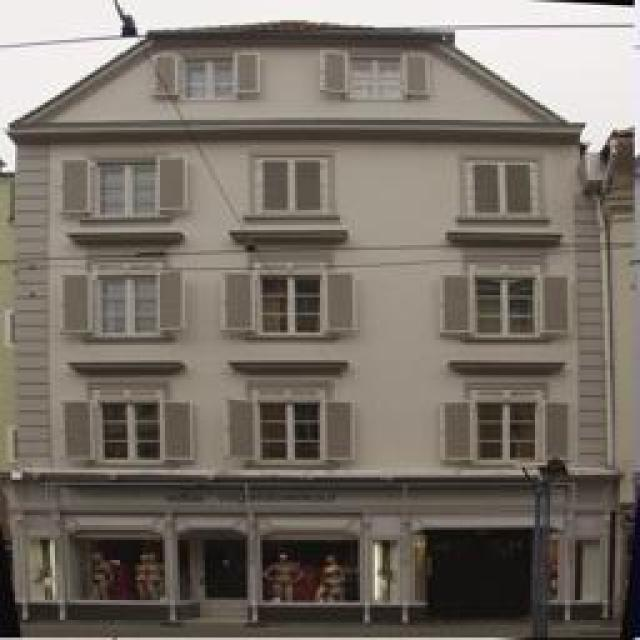building: (18, 30, 600, 640)
